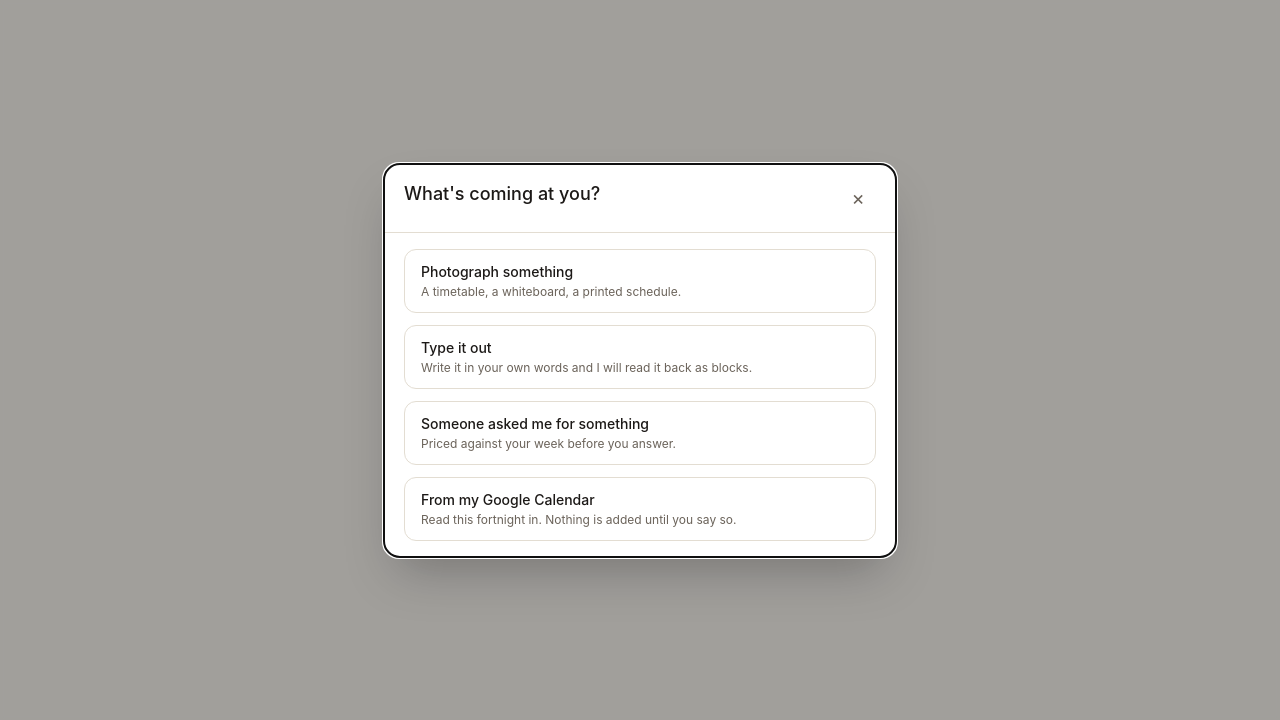
AddSheet and the calendar › offers to read once a calendar is connected
This screenshot has width=1280, height=720.
Click the button with test id "add-calendar".
click(640, 508)  # box top-left (404, 476), bottom-right (876, 540)
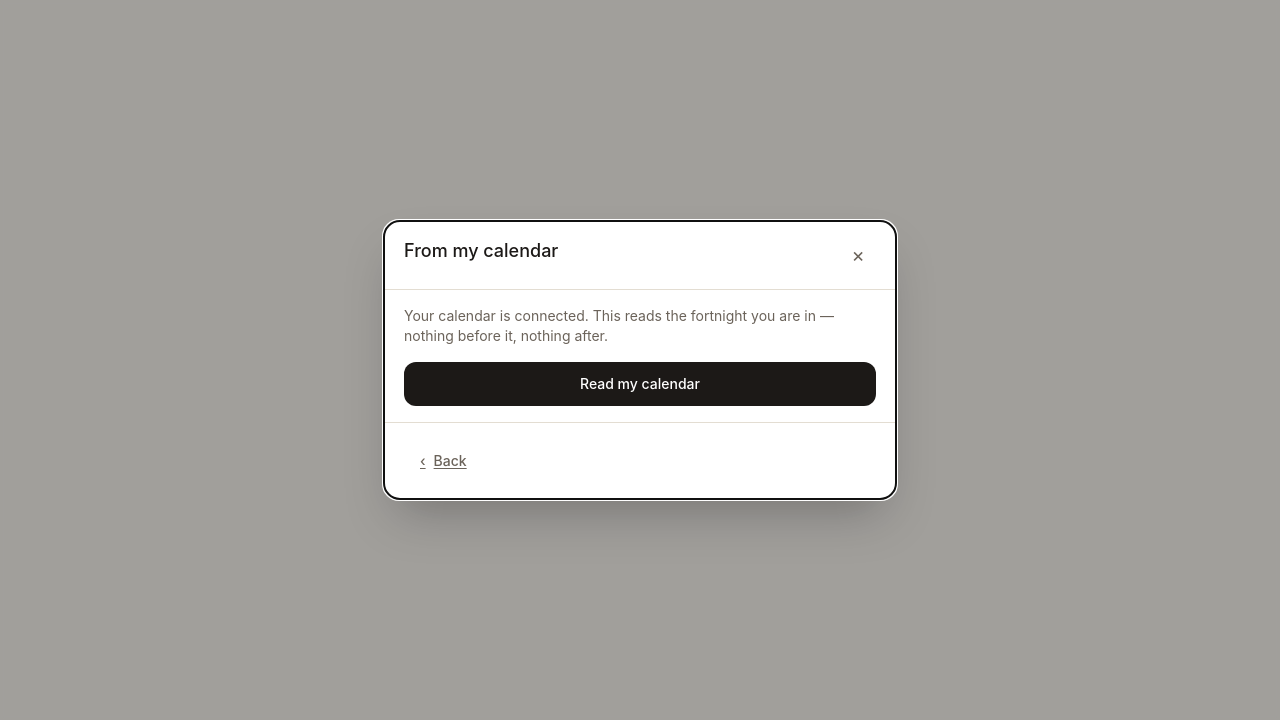
Expected: the button with test id "calendar-read" is shown, top-left (404, 362), bottom-right (876, 406)
